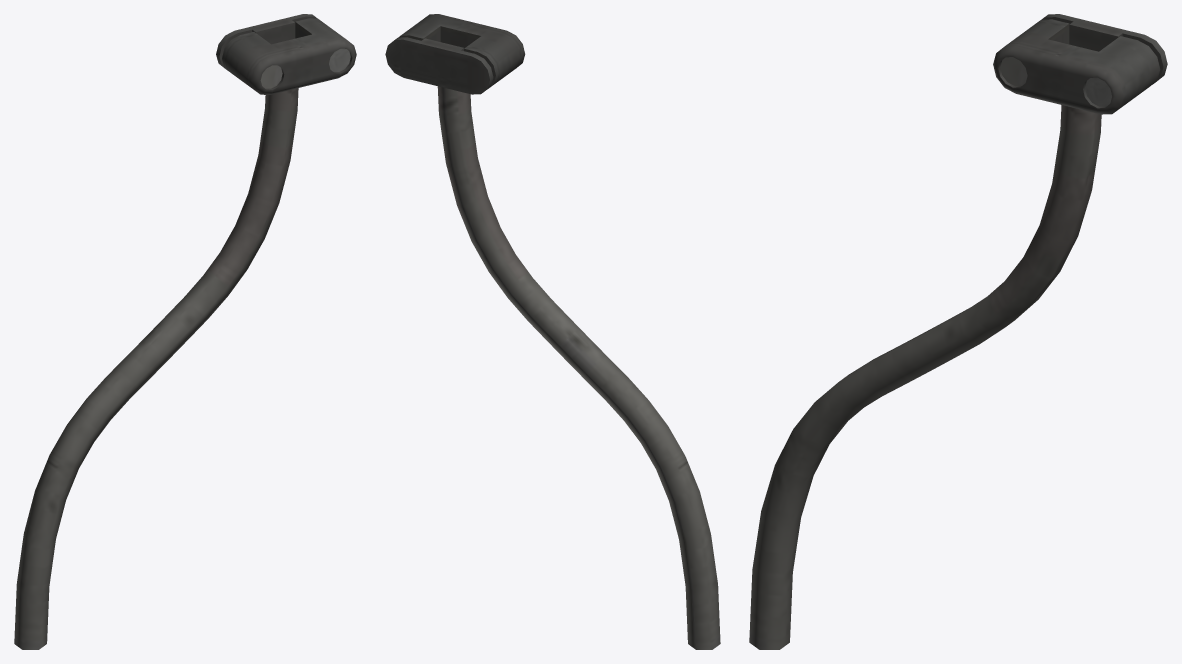
Rendered from cable_scurve_2.gltf.
3 renders of one model, left to right at view 1: azimuth 30°, elevation 25°; view 2: azimuth 150°, elevation 25°; view 3: azimuth 330°, elevation 25°, orthographic. The views are drawn at different scales.
Parts seen in each view (by area): view 1: cable_scurve_2; view 2: cable_scurve_2; view 3: cable_scurve_2.
Boxes of the visible parts, left/top/right/bottom form: cable_scurve_2: left=14, top=14, right=356, bottom=649; cable_scurve_2: left=385, top=14, right=720, bottom=649; cable_scurve_2: left=749, top=14, right=1167, bottom=649.
Bounding box in the file's own units: 0.1257 × 0.2073 × 0.0259.
1 material, 1 textured.
